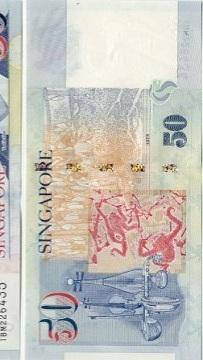50SingaporeDollar: (28, 0, 201, 360)
